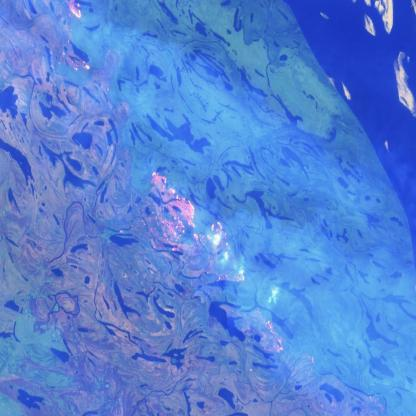fire: (143, 166, 248, 296), (58, 0, 94, 72), (258, 312, 286, 359)
